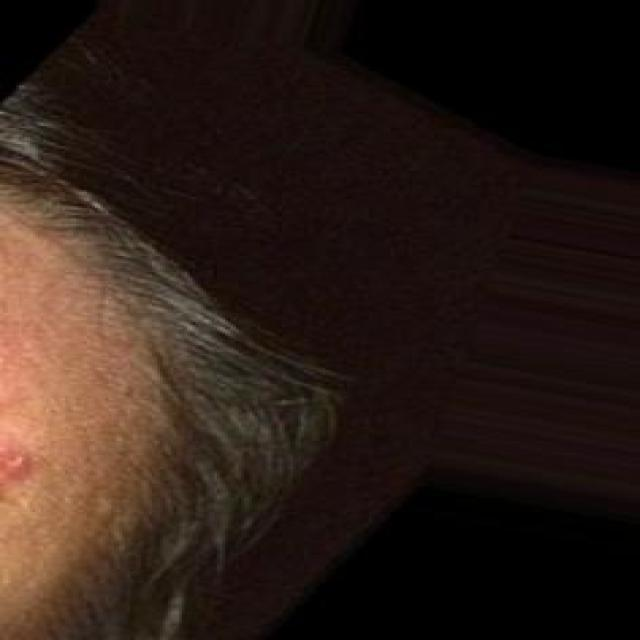Rosacea: (0, 243, 134, 545)
